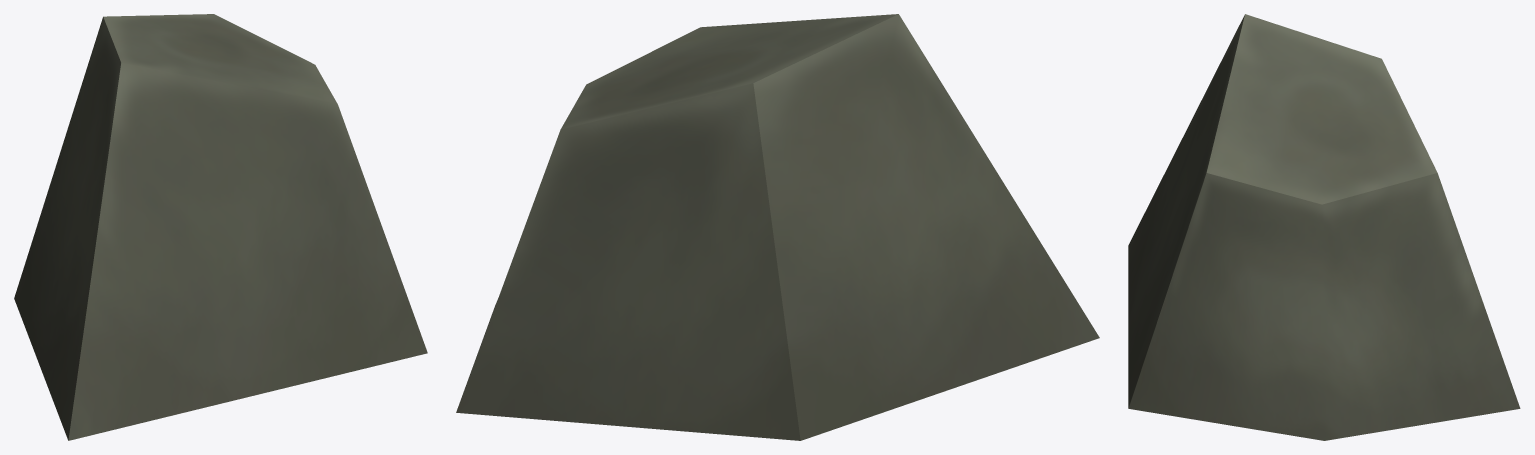
Rendered from Rock Small #2.fbx.
3 views of the same model, side by side, from view 1: azimuth 30°, elevation 25°; view 2: azimuth 150°, elevation 25°; view 3: azimuth 270°, elevation 25° (orthographic). The views are drawn at different scales.
Parts seen in each view (by area): view 1: Rock Small #2; view 2: Rock Small #2; view 3: Rock Small #2.
Boxes of the visible parts, x1,y1,x2,y2 form: Rock Small #2: [14, 14, 427, 440]; Rock Small #2: [456, 14, 1099, 440]; Rock Small #2: [1128, 14, 1520, 440].
Bounding box in the file's own units: 47.8 × 32.31 × 40.46.
Materials: 1 (1 with a texture image).
